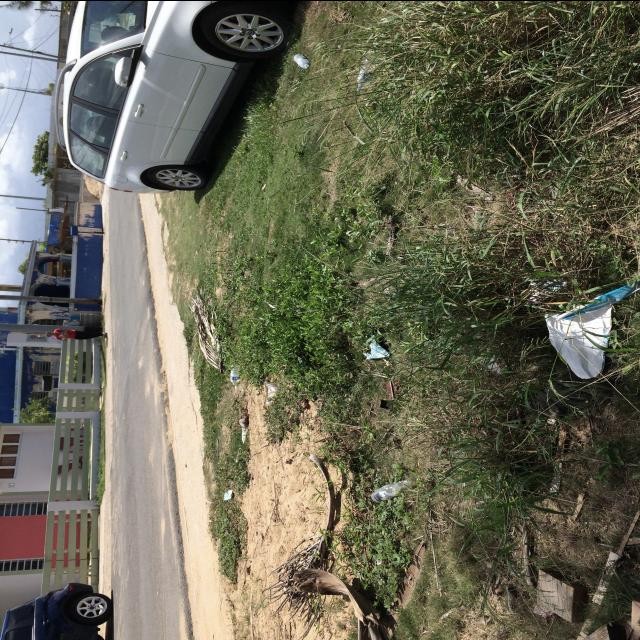Clear plastic bottle: (357, 57, 372, 90), (294, 53, 309, 67), (230, 363, 239, 384)
Disposable plastic cup: (265, 382, 281, 403)
Glass bottle: (370, 479, 409, 502)
Plastic bottle cap: (305, 63, 310, 67)
Plastic film: (545, 282, 639, 378)
Unlabeled litter: (530, 278, 566, 302), (366, 338, 390, 359), (534, 602, 554, 616), (242, 426, 247, 443), (225, 489, 232, 500)
